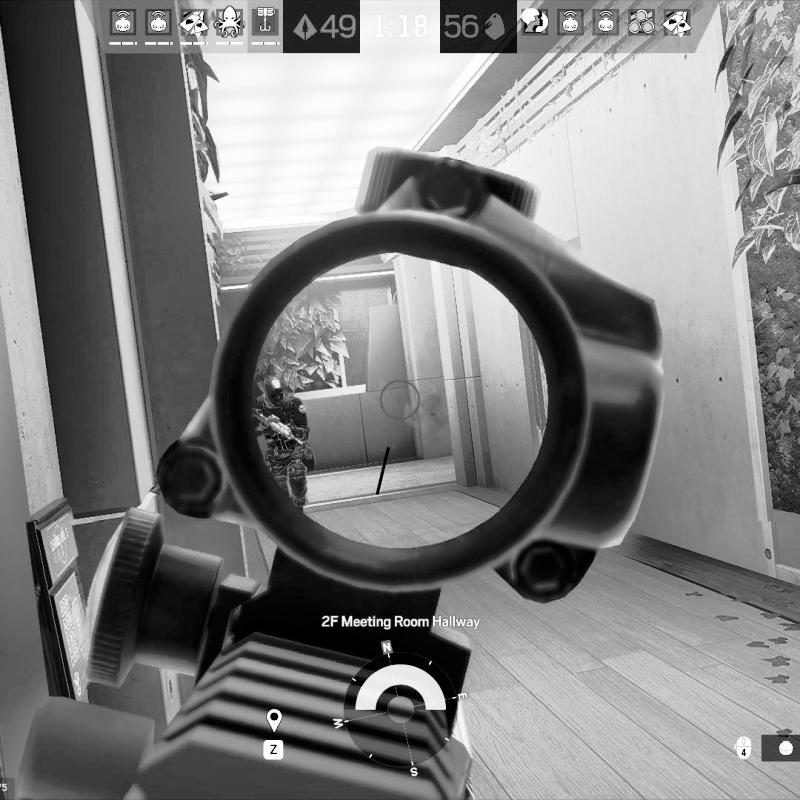Character: (252, 374, 314, 515)
Head: (262, 376, 288, 407)
